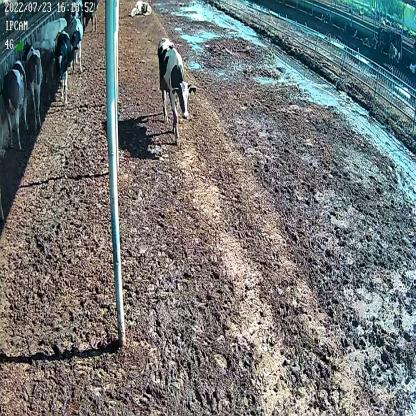cow: (157, 37, 197, 148), (2, 56, 28, 146), (22, 40, 43, 127), (56, 25, 71, 102), (70, 15, 84, 71), (129, 0, 153, 19)
